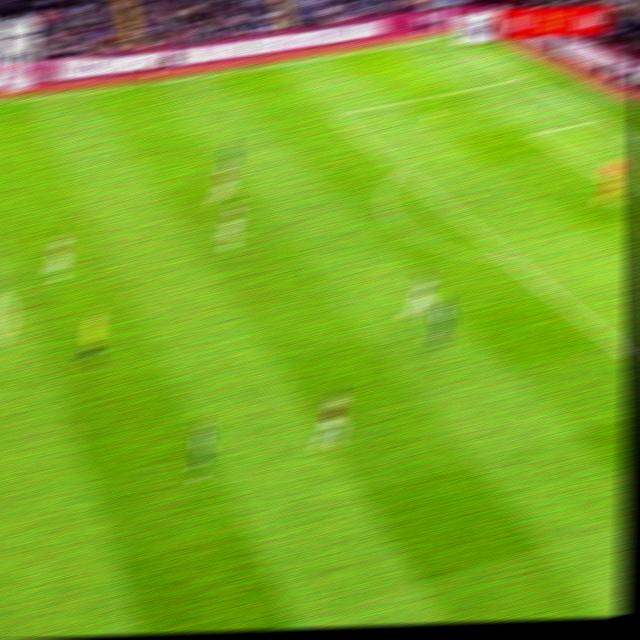bigarea_top_inner: (322, 108, 344, 122)
bigarea_top_outter: (510, 72, 530, 84)
bottom_arc_area_intersection: (496, 250, 522, 272)
corner: (434, 35, 452, 43)
smallarea_top_inner: (523, 129, 543, 144)
smallarea_top_outter: (590, 113, 610, 127)
top_arc_area_intersection: (391, 159, 412, 185)
